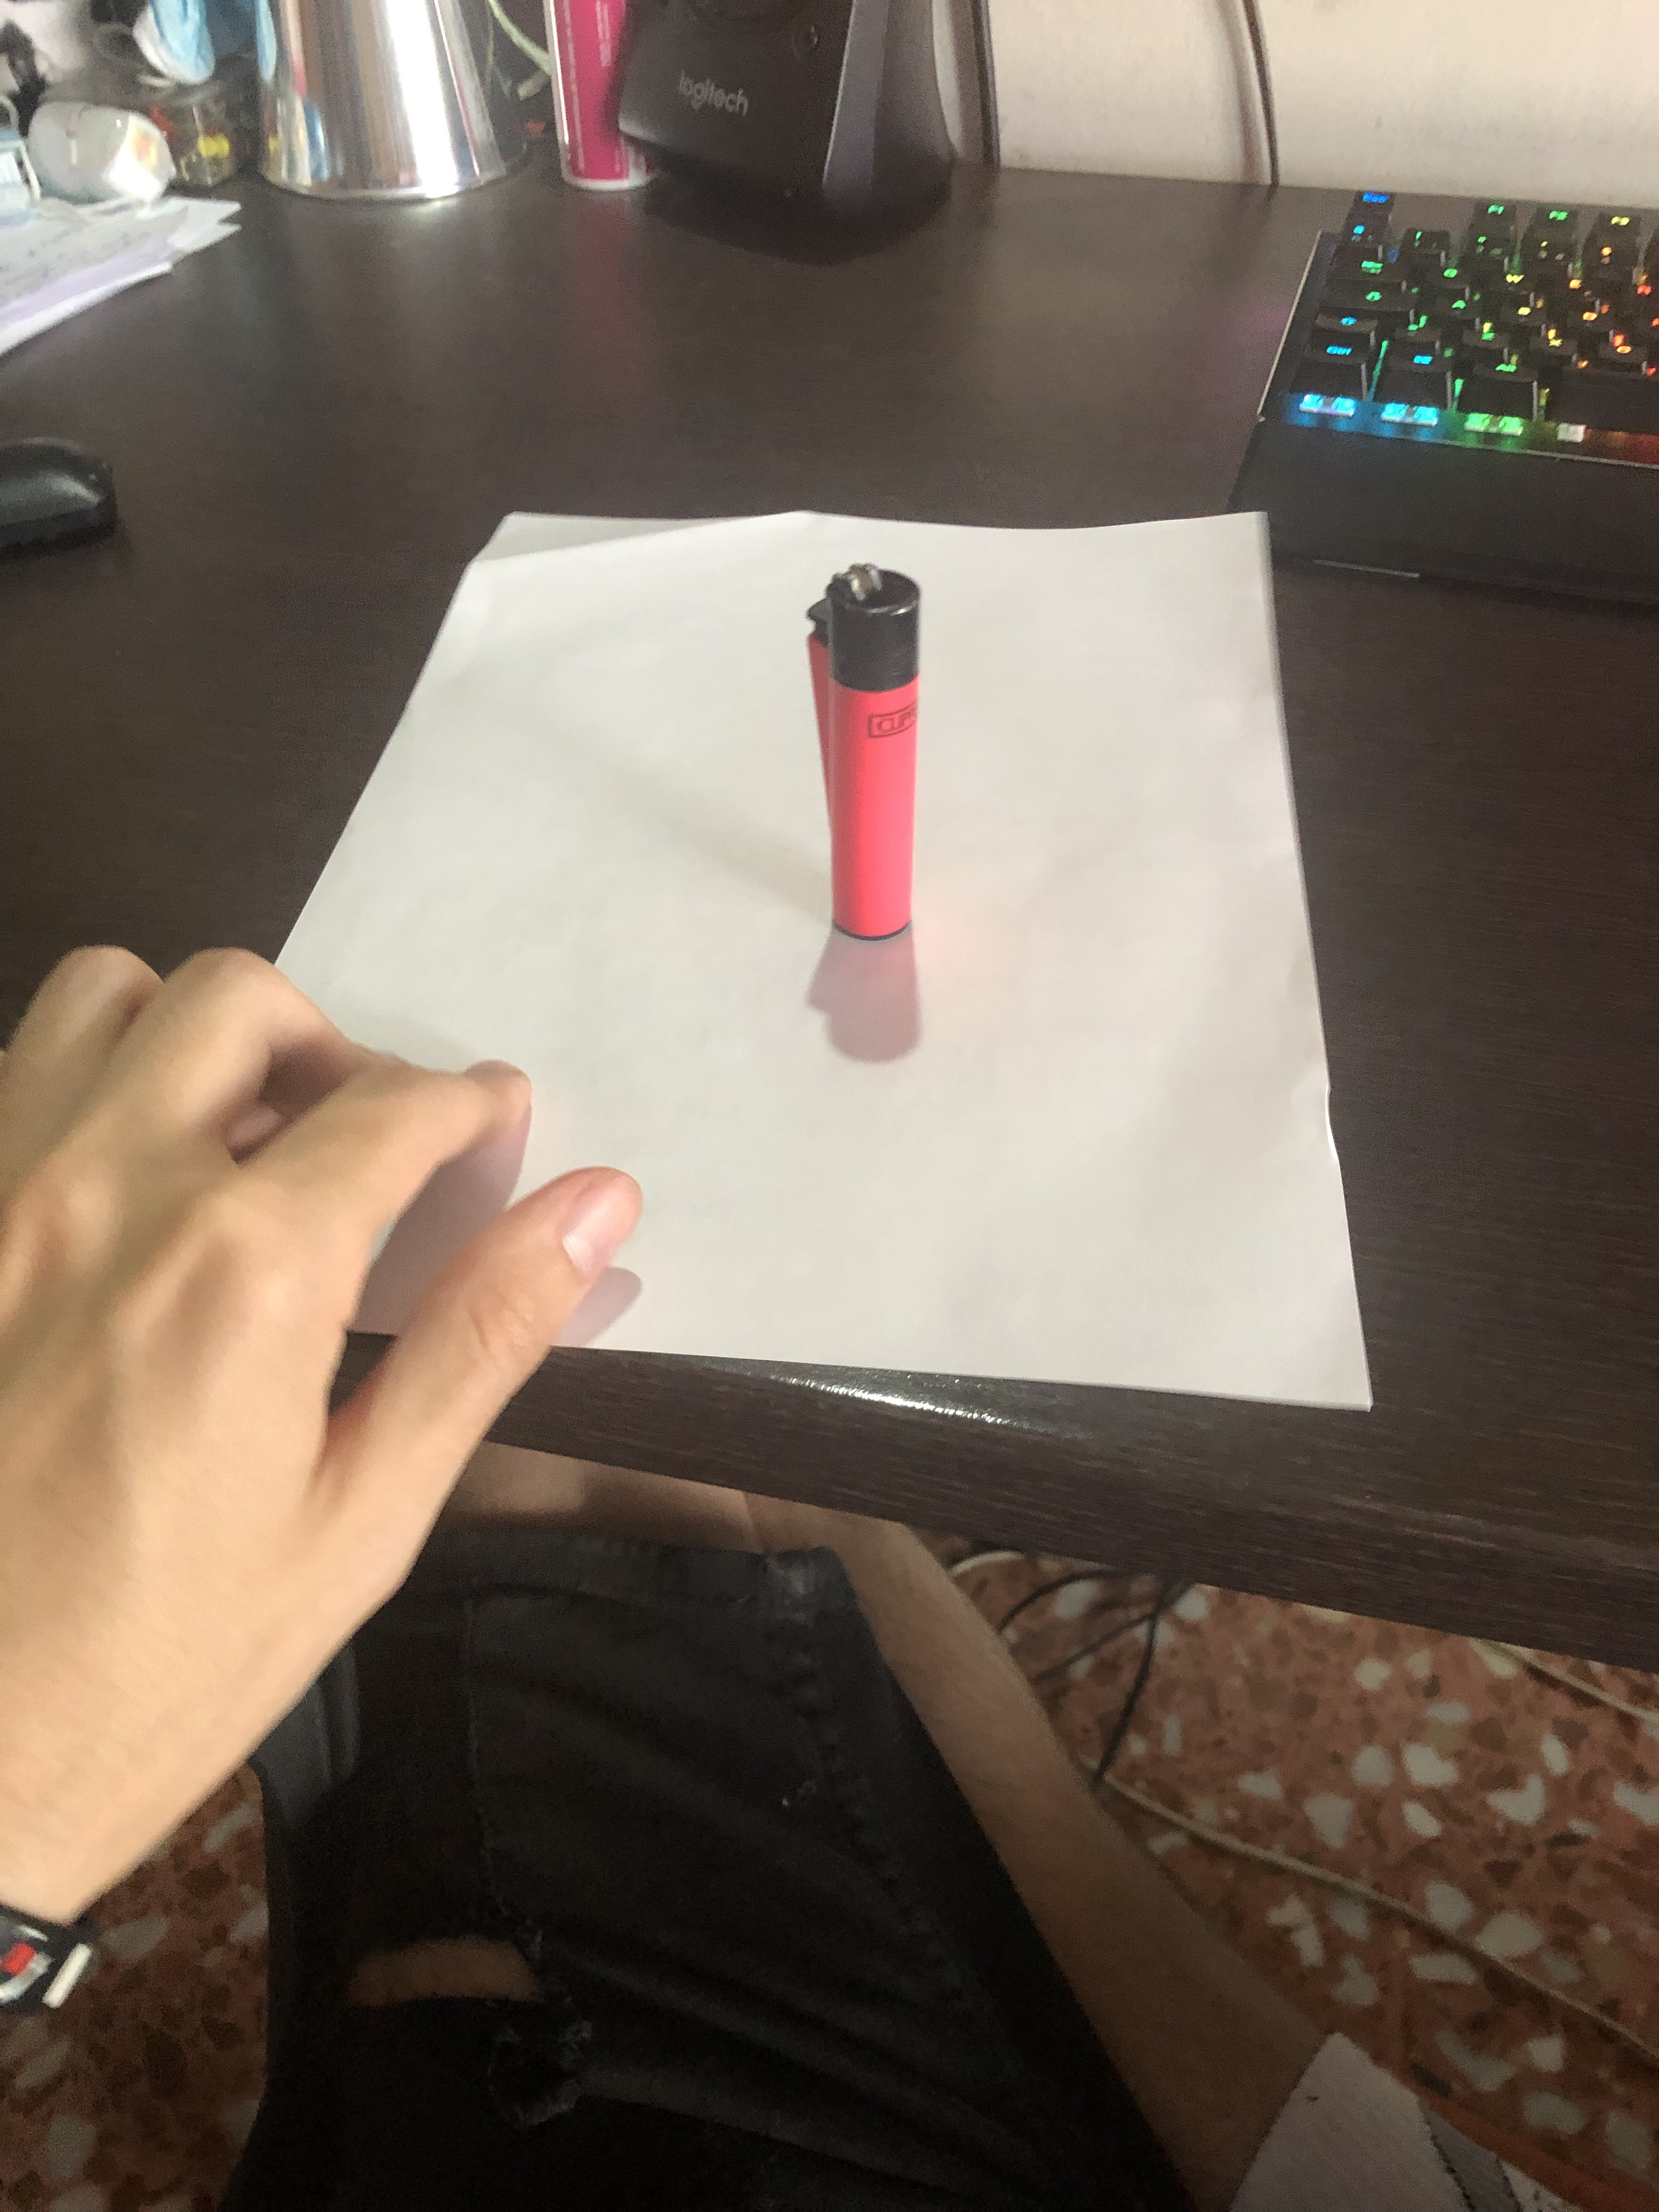Mechero: (795, 557, 948, 944)
